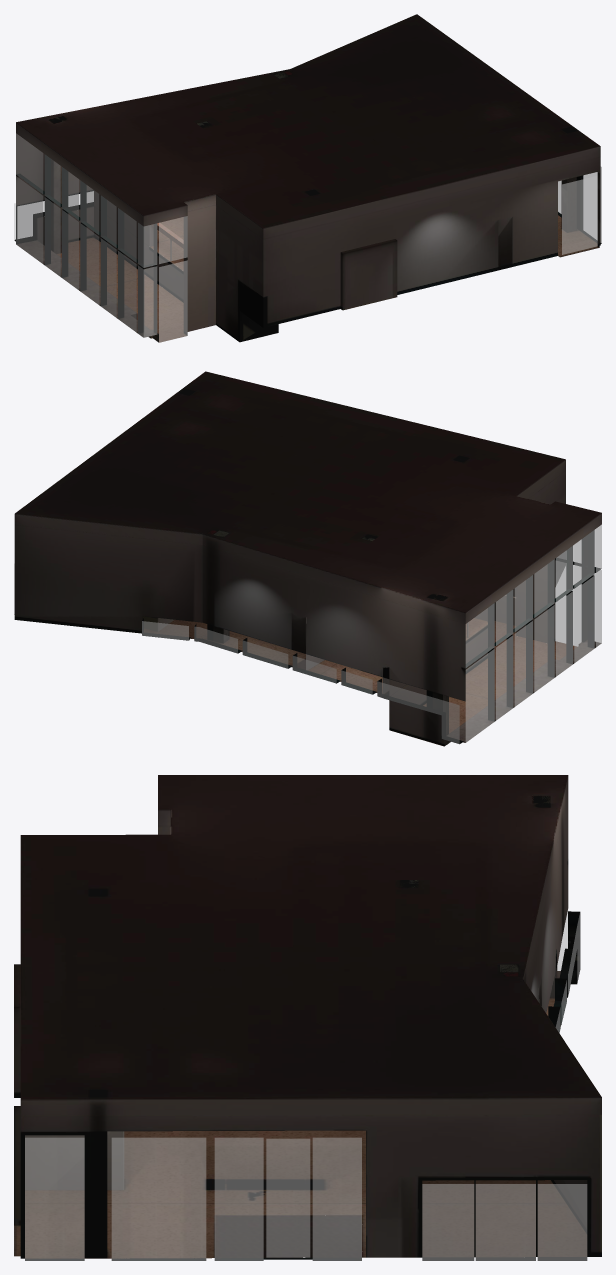
The model's file is exhibition_space_3.glb.
3 renders of one model, top to bottom at view 1: azimuth 30°, elevation 25°; view 2: azimuth 150°, elevation 25°; view 3: azimuth 270°, elevation 25°, orthographic. The views are drawn at different scales.
Parts seen in each view (by area): view 1: exhibition_exterior_geo, glass_geo, exhibition_interior_geo; view 2: exhibition_exterior_geo, glass_geo, exhibition_interior_geo, pCylinder5; view 3: exhibition_exterior_geo, exhibition_interior_geo, glass_geo, pCylinder5.
Boxes of the visible parts, box(x1,y1,x2,y2) form: exhibition_exterior_geo: box(16, 14, 600, 342); glass_geo: box(14, 133, 601, 342); exhibition_interior_geo: box(14, 71, 601, 342); exhibition_exterior_geo: box(14, 371, 601, 746); glass_geo: box(14, 524, 601, 743); exhibition_interior_geo: box(142, 530, 601, 746); pCylinder5: box(142, 616, 324, 670); exhibition_exterior_geo: box(14, 775, 601, 1258); exhibition_interior_geo: box(14, 803, 587, 1260); glass_geo: box(25, 909, 587, 1260); pCylinder5: box(25, 988, 539, 1189).
Size of the model in its own units: 20 by 6 by 15.23.
Materials: 5 (3 with a texture image).
